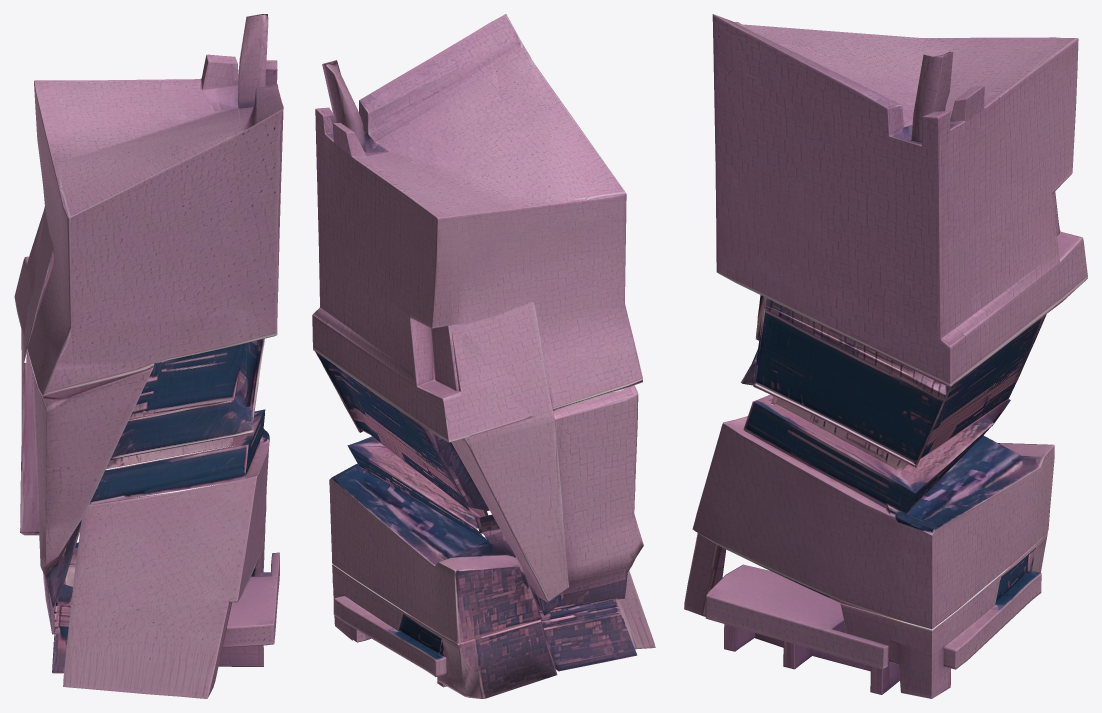
The model's file is town-pink-tower.lite.glb.
3 views of the same model, side by side, from view 1: azimuth 30°, elevation 25°; view 2: azimuth 150°, elevation 25°; view 3: azimuth 270°, elevation 25° (orthographic). The views are drawn at different scales.
Visible parts, largest first — view 1: tripo_6b80e349_1ae0_43c7_9ebb_65b474136199; view 2: tripo_6b80e349_1ae0_43c7_9ebb_65b474136199; view 3: tripo_6b80e349_1ae0_43c7_9ebb_65b474136199.
Part boxes in pixels (x1,y1,x2,y2): tripo_6b80e349_1ae0_43c7_9ebb_65b474136199: [14, 14, 283, 698]; tripo_6b80e349_1ae0_43c7_9ebb_65b474136199: [312, 14, 655, 698]; tripo_6b80e349_1ae0_43c7_9ebb_65b474136199: [684, 14, 1087, 698].
Bounding box in the file's own units: 0.52 × 0.9995 × 0.564.
Materials: 1 (1 with a texture image).
